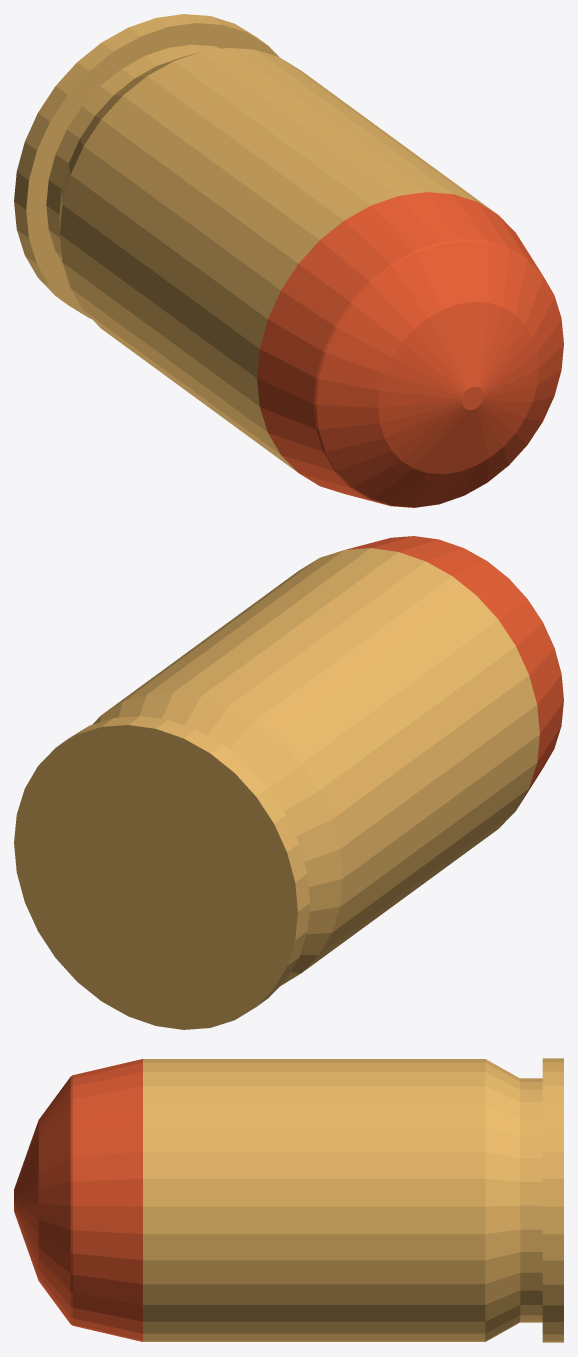
The model's file is Bullet.fbx.
The picture shows the model from 3 angles, top to bottom: view 1: azimuth 30°, elevation 25°; view 2: azimuth 150°, elevation 25°; view 3: azimuth 270°, elevation 25°; orthographic projection. The views are drawn at different scales.
Parts seen in each view (by area): view 1: Cylinder, Cylinder.001; view 2: Cylinder, Cylinder.001; view 3: Cylinder, Cylinder.001.
Boxes of the visible parts, <box> form: Cylinder: <box>14,14,496,472</box>; Cylinder.001: <box>257,192,563,507</box>; Cylinder: <box>14,548,539,1029</box>; Cylinder.001: <box>345,536,563,806</box>; Cylinder: <box>143,1058,563,1342</box>; Cylinder.001: <box>14,1059,142,1341</box>.
Bounding box in the file's own units: 201 × 201 × 388.
